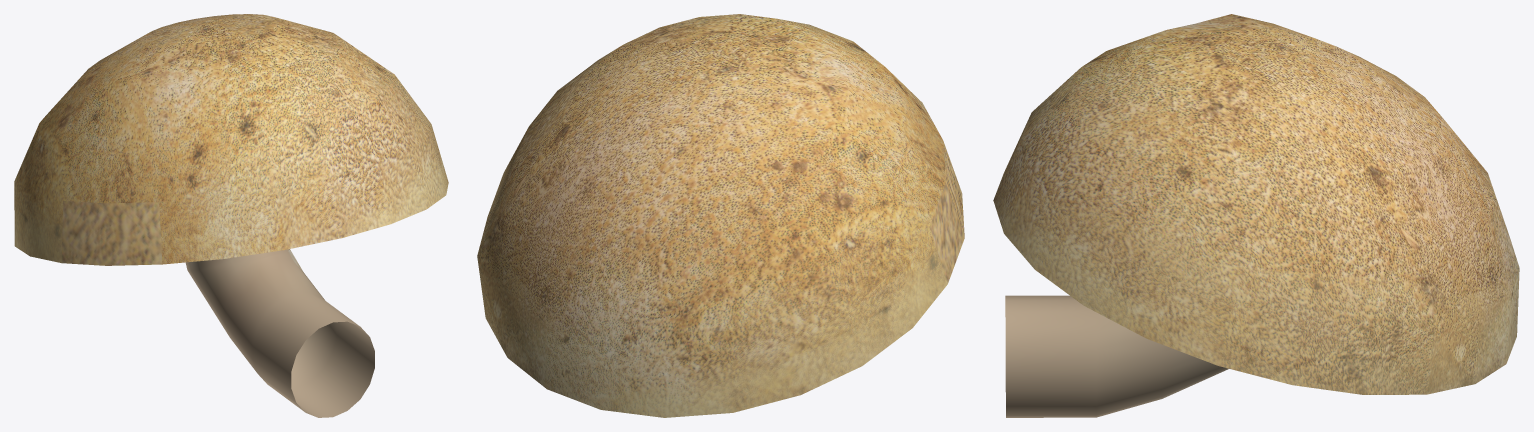
The model's file is mushroom.fbx.
The picture shows the model from 3 angles, left to right: view 1: azimuth 30°, elevation 25°; view 2: azimuth 150°, elevation 25°; view 3: azimuth 270°, elevation 25°; orthographic projection. The views are drawn at different scales.
Visible parts, largest first — view 1: top, stem; view 2: top; view 3: top, stem.
Boxes of the visible parts, x1,y1,x2,y2 form: top: (14,14,448,265); stem: (185,249,374,417); top: (477,14,964,417); top: (993,14,1519,394); stem: (1005,295,1228,417).
Bounding box in the file's own units: 1050 × 842 × 1090.
